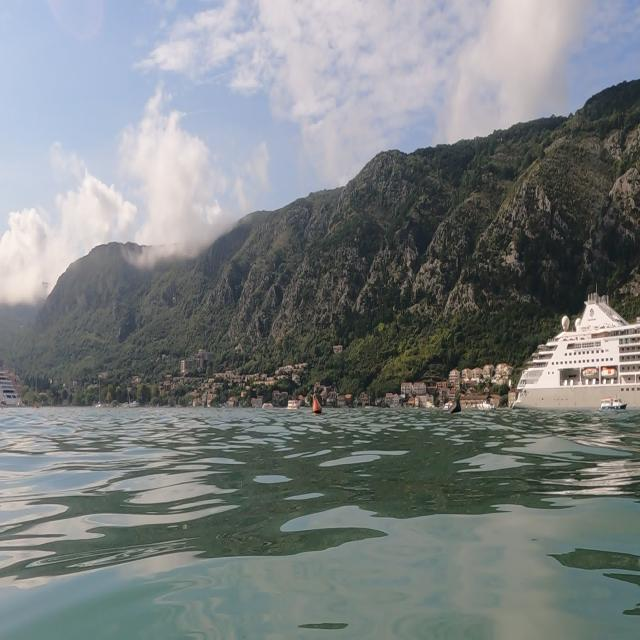boat: (508, 285, 639, 414)
buoy: (442, 394, 463, 422), (307, 387, 325, 418)
